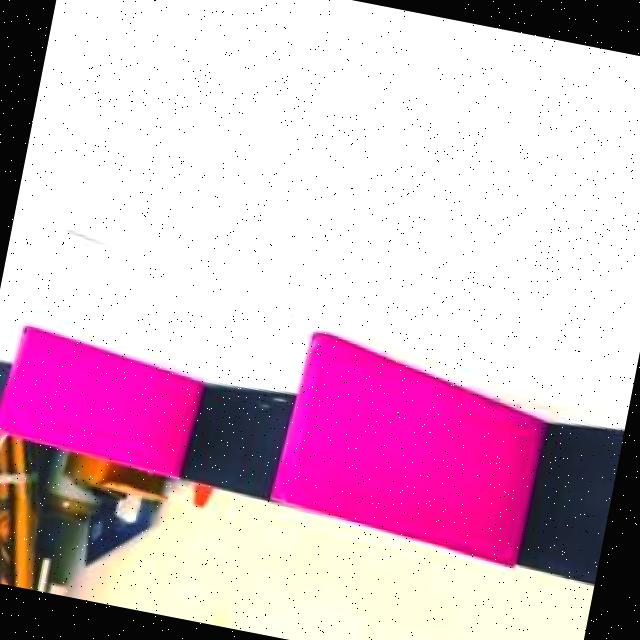xparking: (270, 333, 552, 551), (0, 325, 206, 471)
